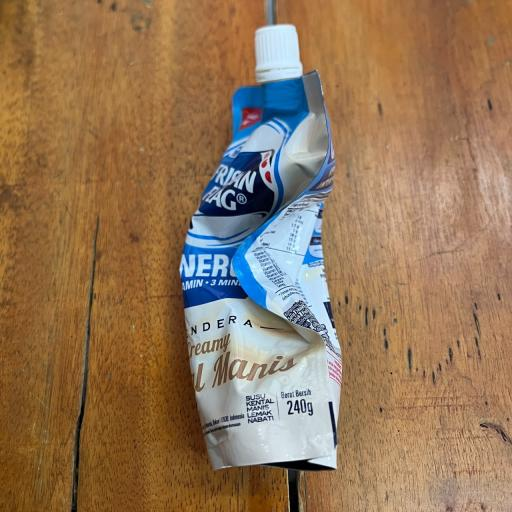Frisian Flag Kental Manis: (211, 24, 337, 474)
